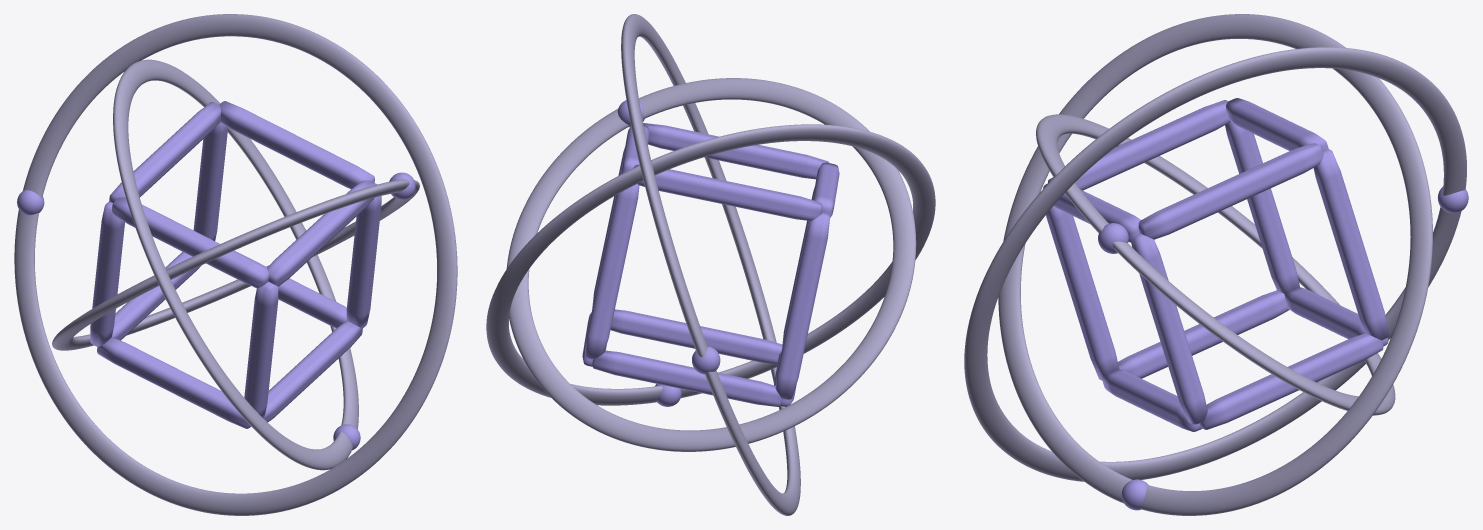
The picture shows the model from 3 angles, left to right: view 1: azimuth 30°, elevation 25°; view 2: azimuth 150°, elevation 25°; view 3: azimuth 270°, elevation 25°; orthographic projection. The views are drawn at different scales.
Bounding box in the file's own units: 0.9474 × 1.13 × 1.06.
